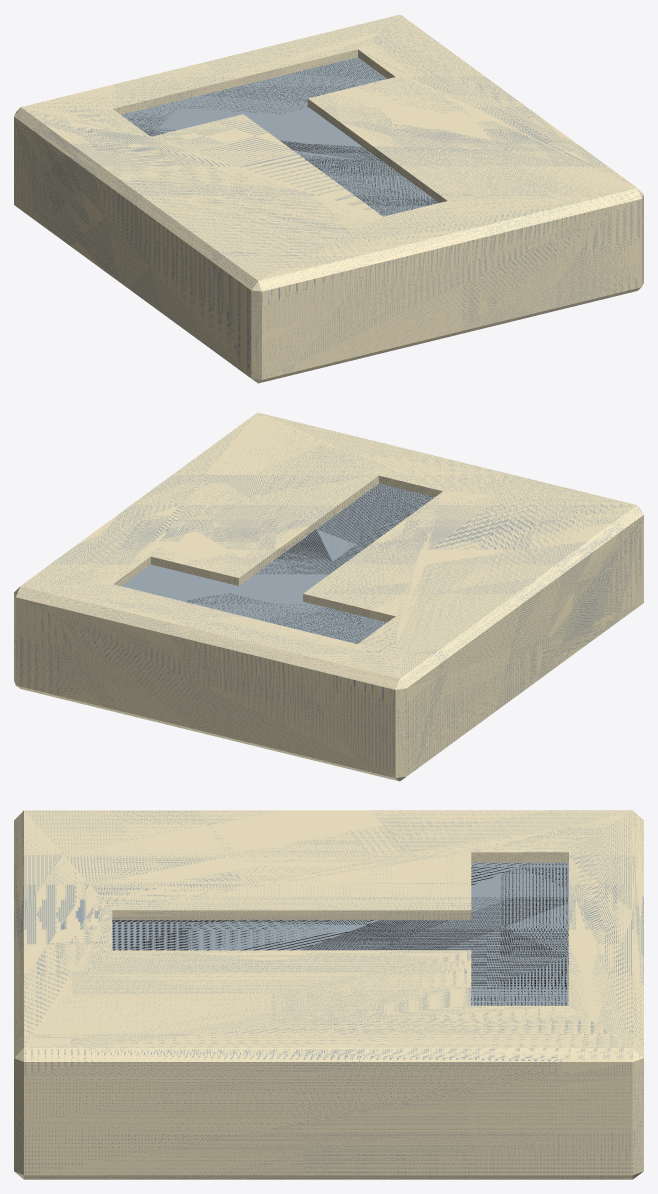
The model's file is Boardgame_Anagram_Tile_T.fbx.
3 renders of one model, top to bottom at view 1: azimuth 30°, elevation 25°; view 2: azimuth 150°, elevation 25°; view 3: azimuth 270°, elevation 25°, orthographic. The views are drawn at different scales.
Visible parts, largest first — view 1: Model; view 2: Model; view 3: Model.
Boxes of the visible parts, box(x1,y1,x2,y2) form: Model: box(14, 14, 643, 383); Model: box(14, 412, 643, 781); Model: box(14, 810, 643, 1179).
Size of the model in its own units: 195 by 48.83 by 212.
